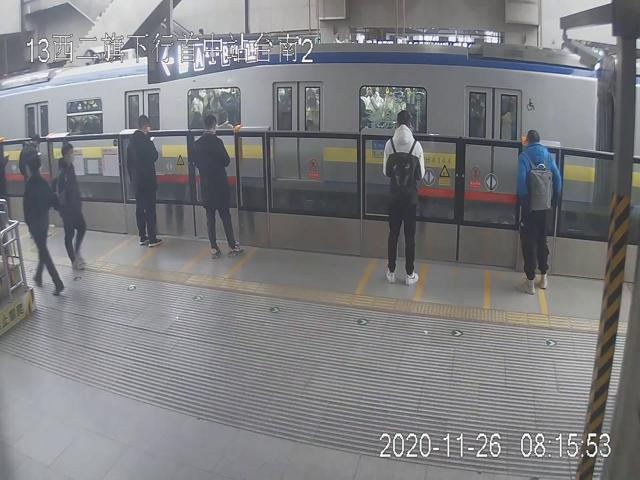person: (195, 113, 246, 260), (382, 111, 425, 284), (519, 128, 563, 294), (21, 152, 65, 296), (127, 113, 164, 245), (58, 138, 88, 270)
